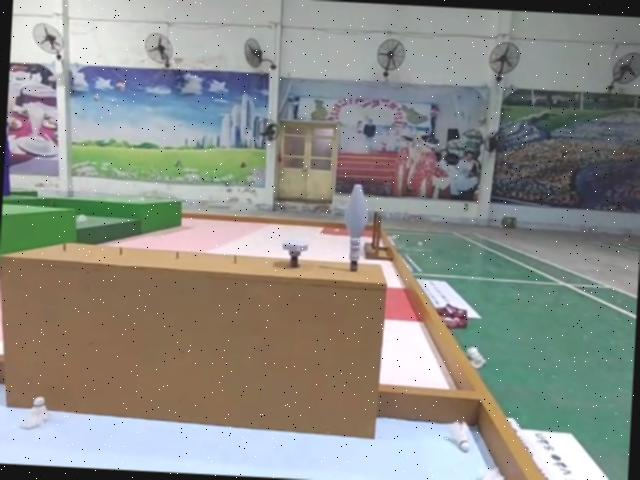Hand: (279, 236, 311, 269)
Sph: (338, 181, 370, 271)
